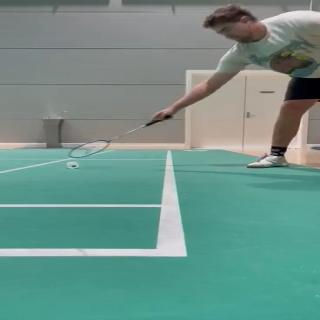Shuttle: (66, 161, 80, 169)
